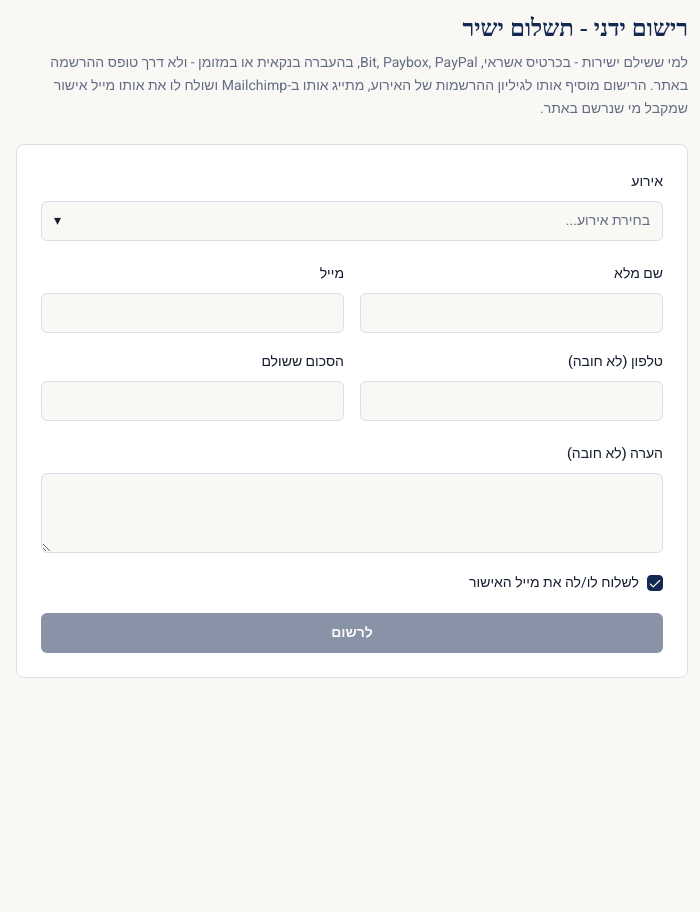
Test case: AdminManualRegistration › event picker: search narrows the list, and Enter picks the only match
The image size is (700, 912).
Click the button "בחירת אירוע... ▾".
click(608, 221)  # box [41, 201, 663, 241]
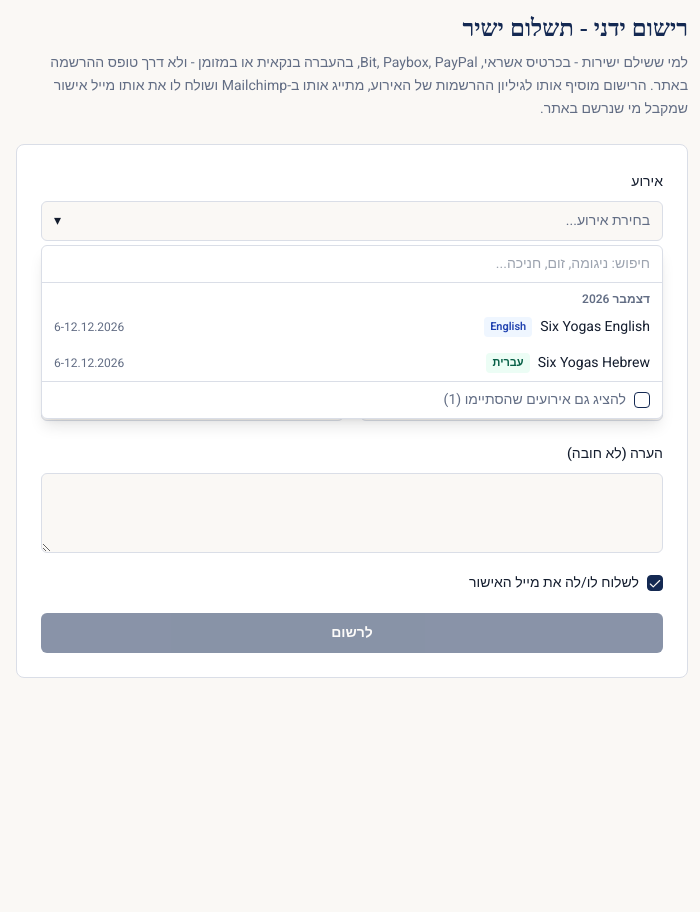
Type "english" into the search field named "חיפוש אירוע".
click(352, 265); type("english")  # box [42, 246, 662, 283]
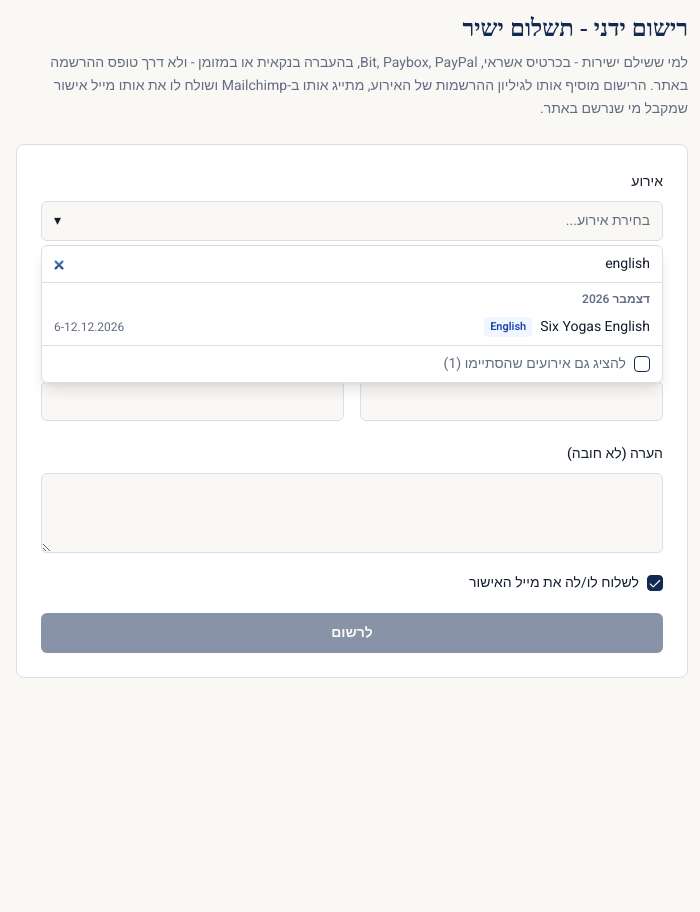
Expected: the number of options is 1, [42, 309, 662, 345]
Press Enter in the search field named "חיפוש אירוע", box [42, 246, 662, 283]
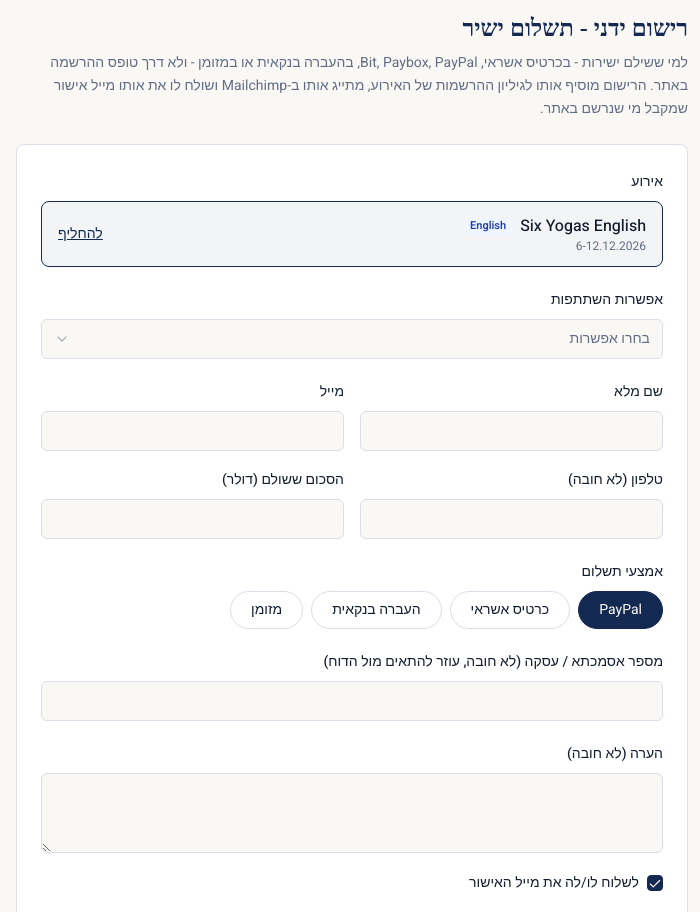
Expected: the text "Six Yogas English" is shown, [520, 214, 646, 238]
Expected: the list is gone
